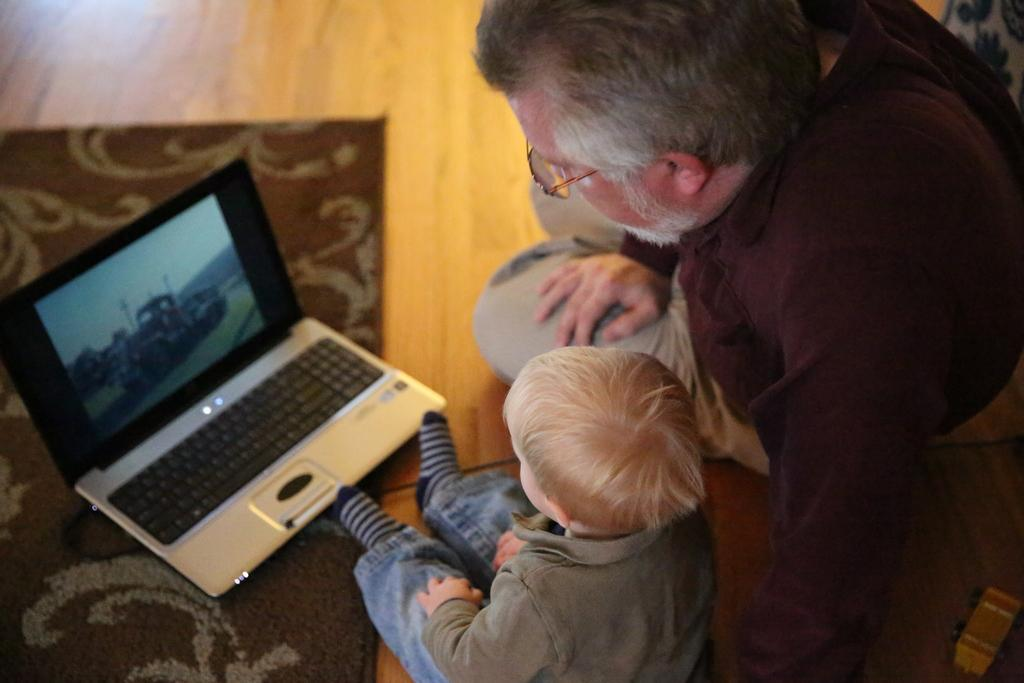Laptop: (16, 150, 438, 614)
